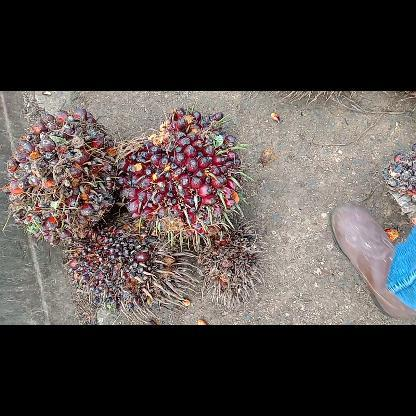TBS abnormal: (60, 212, 202, 323), (195, 210, 266, 310)
TBS masak: (114, 106, 254, 250), (0, 105, 119, 249)
